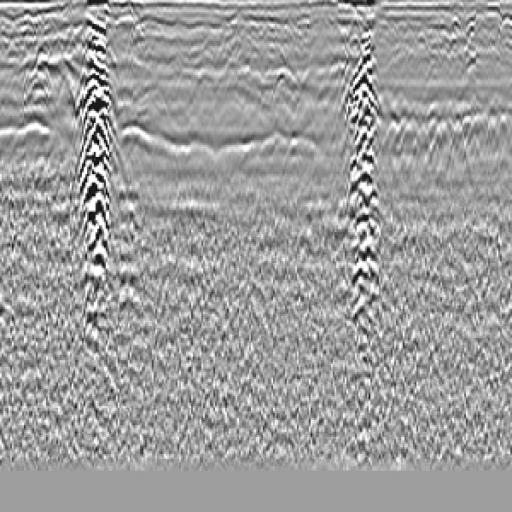metalic: (324, 7, 403, 391), (65, 2, 132, 346)
